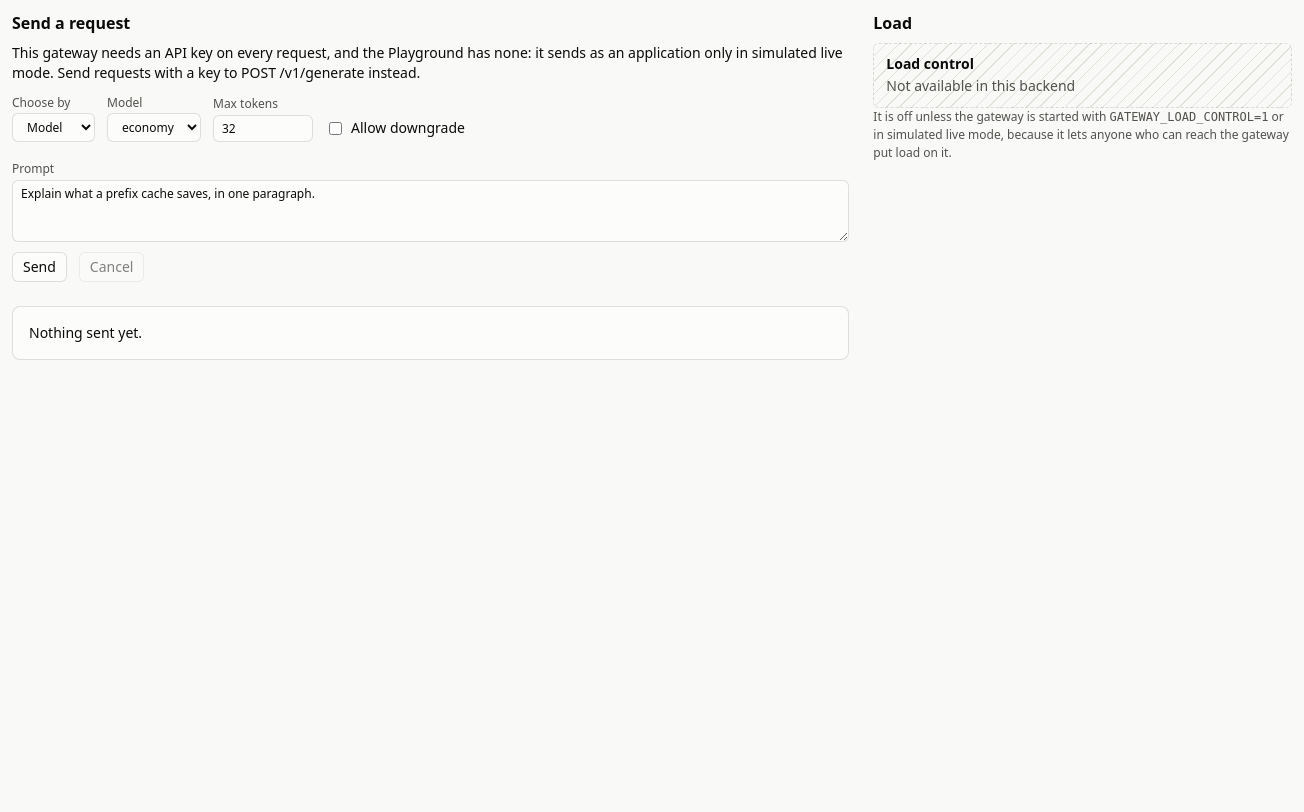
Test case: request form › sends a quality in place of a model
Select "Quality" in the dropdown labelled "Choose by". click: (54, 128)
box: [12,113,95,142]
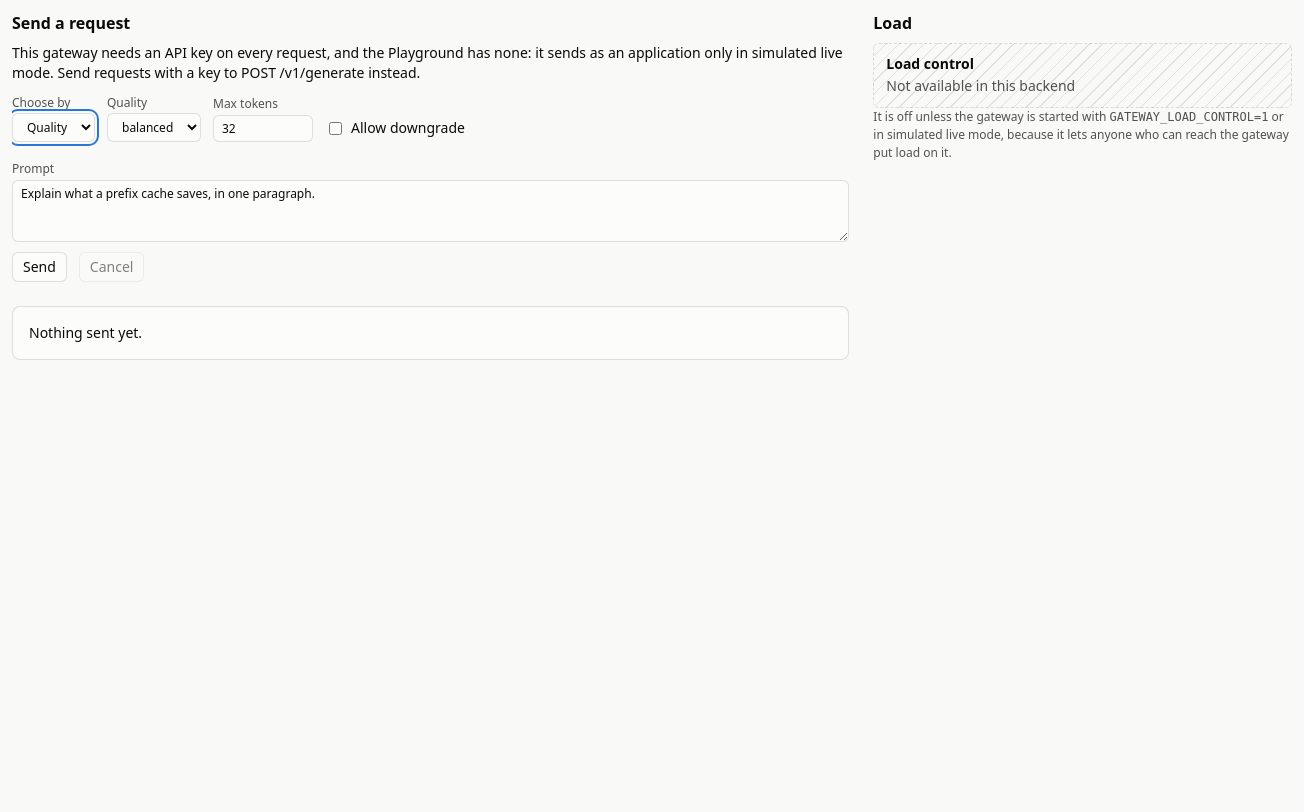
Check: the label labelled "Model" is gone
Select "best" in the dropdown labelled "Quality". click: (154, 128)
box: [107,113,201,142]
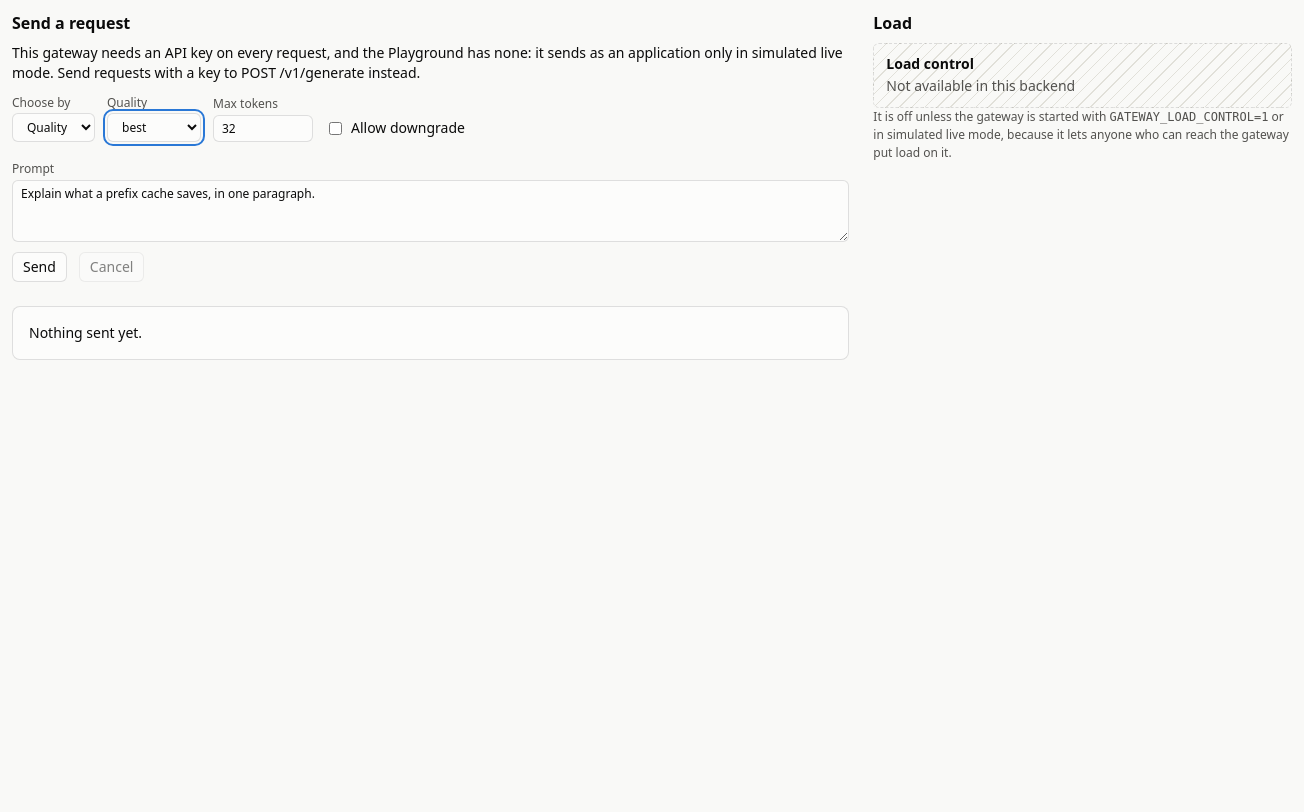
Click the button "Send". click: (39, 267)
box: [12,252,67,282]
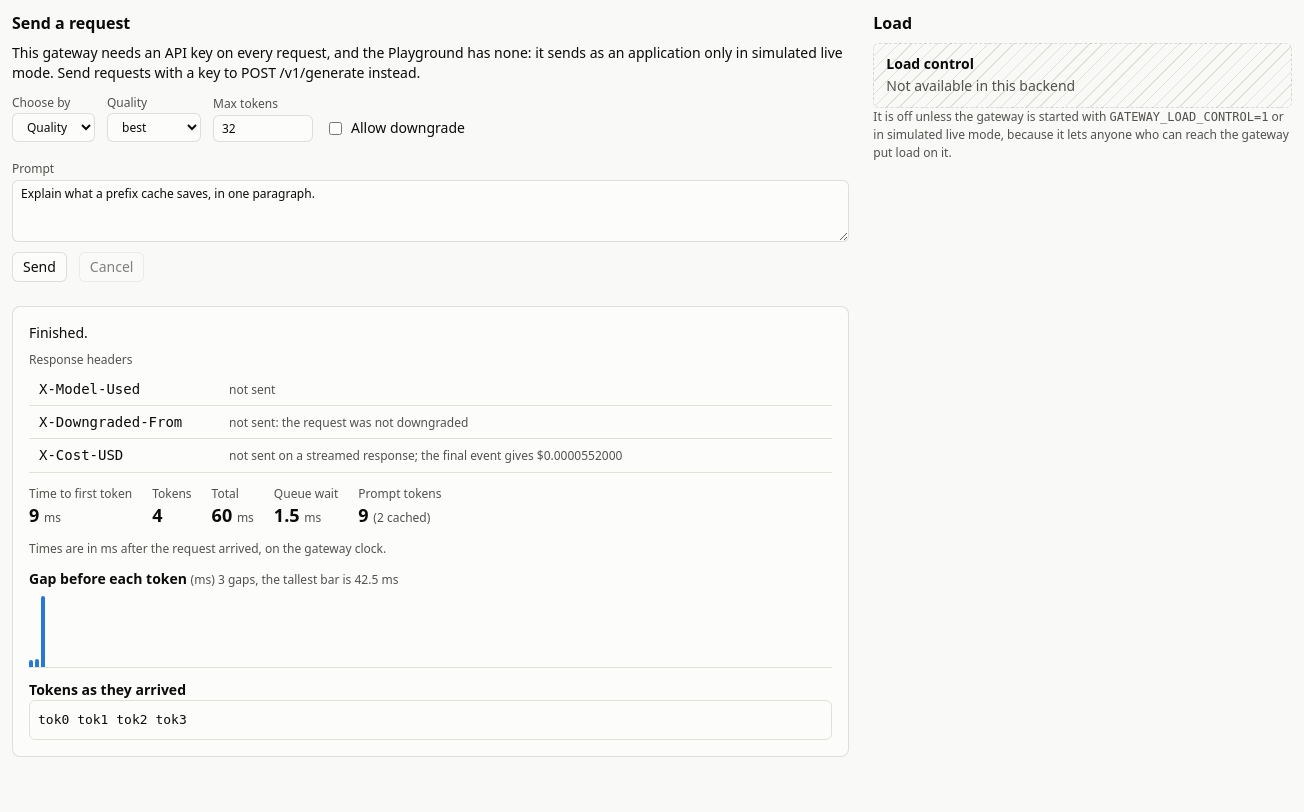
Check: the text "Finished." is shown, box [29,323,88,342]
